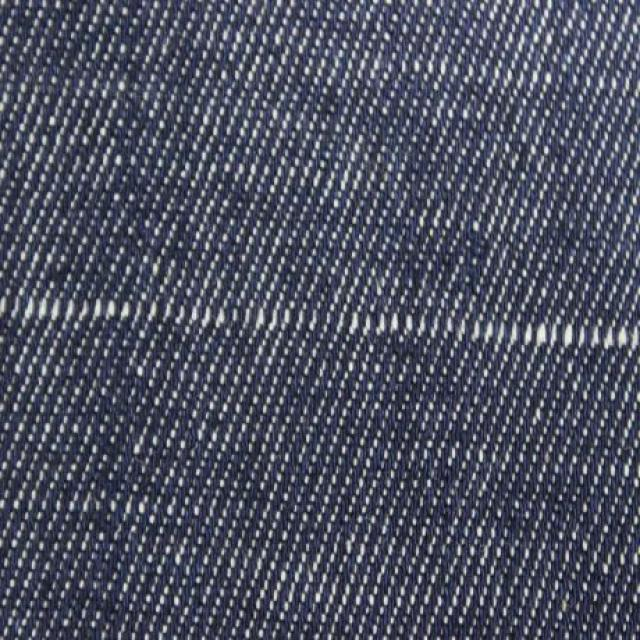stains: (13, 228, 640, 495)
